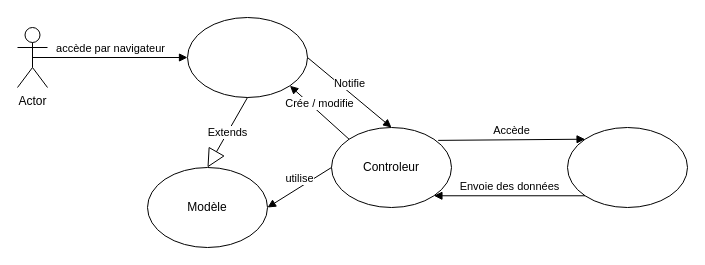
Some shapes in this 705 by 265 pixel diagram are drawn without their labels. The shapes that lost their labels are listed below. From the top down, each one's centre as x and y in pixels, then its label:
(247,57): Vue
(627,167): Base de données
